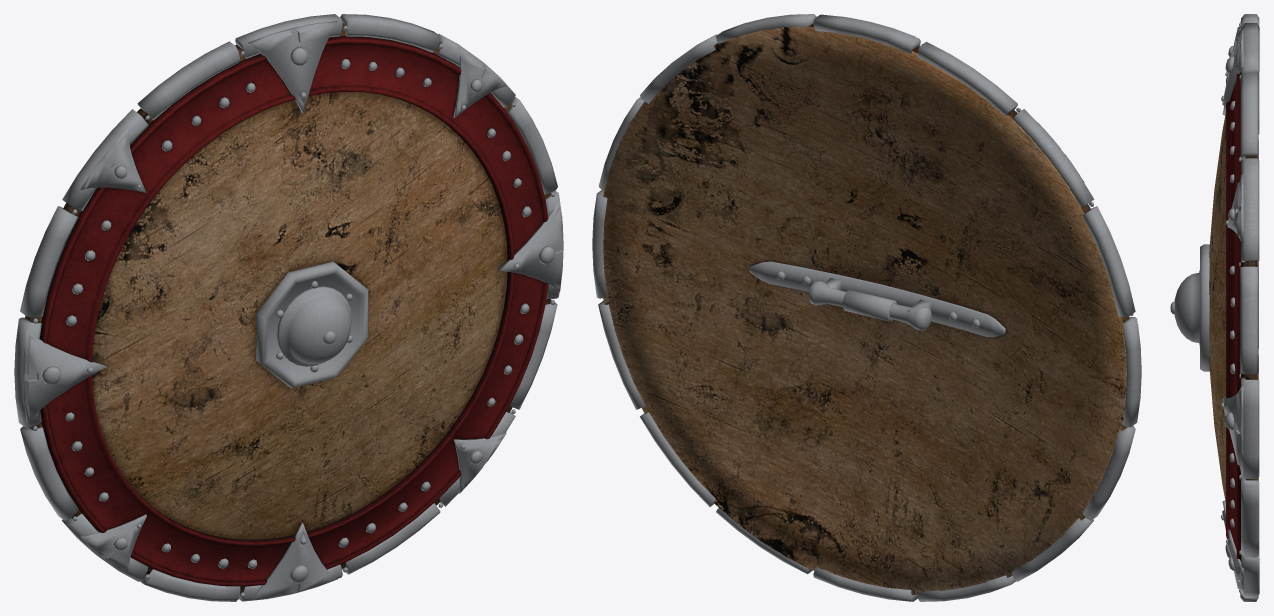
Rendered from color2.glb.
The picture shows the model from 3 angles, left to right: view 1: azimuth 30°, elevation 25°; view 2: azimuth 150°, elevation 25°; view 3: azimuth 270°, elevation 25°; orthographic projection. The views are drawn at different scales.
Visible parts, largest first — view 1: Escudo_Madera.005, BandaRoja.004, Aro.004, Escudo_Triangulos.004, Centro.004, Remaches.004; view 2: Escudo_Madera.005, Aro.004, Agarradera.004; view 3: Aro.004, BandaRoja.004, Escudo_Madera.005, Escudo_Triangulos.004, Centro.004, Remaches.004.
Boxes of the visible parts, box(x1,y1,x2,y2) form: Escudo_Madera.005: box(25, 23, 550, 593); BandaRoja.004: box(39, 36, 548, 586); Aro.004: box(14, 14, 562, 601); Escudo_Triangulos.004: box(23, 21, 563, 600); Centro.004: box(256, 261, 368, 388); Remaches.004: box(42, 47, 554, 583); Escudo_Madera.005: box(603, 23, 1129, 594); Aro.004: box(592, 14, 1141, 601); Agarradera.004: box(749, 261, 1005, 337); Aro.004: box(1238, 14, 1259, 601); BandaRoja.004: box(1226, 33, 1243, 561); Escudo_Madera.005: box(1209, 114, 1257, 502); Escudo_Triangulos.004: box(1222, 26, 1243, 593); Centro.004: box(1174, 244, 1209, 371); Remaches.004: box(1170, 46, 1235, 570).
Bounding box in the file's own units: 2 × 2 × 0.3027.
3 materials, 3 textured.
